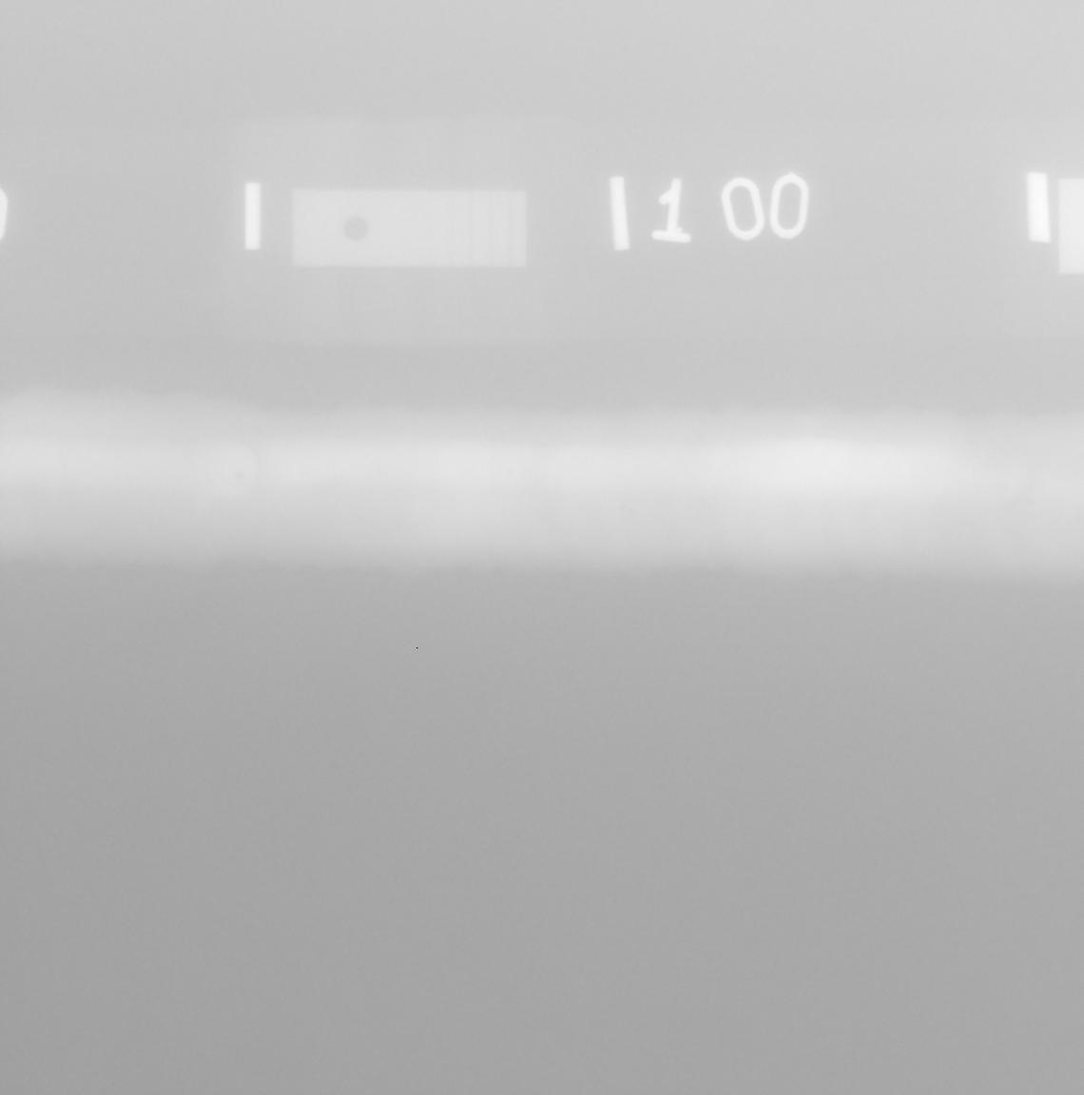Pore/Porosity: (235, 472, 243, 479), (1027, 499, 1035, 506), (627, 508, 634, 514), (619, 504, 625, 511), (999, 485, 1009, 489), (509, 468, 513, 473), (1025, 486, 1031, 489)
Reference Standard 1: (292, 190, 526, 267)
